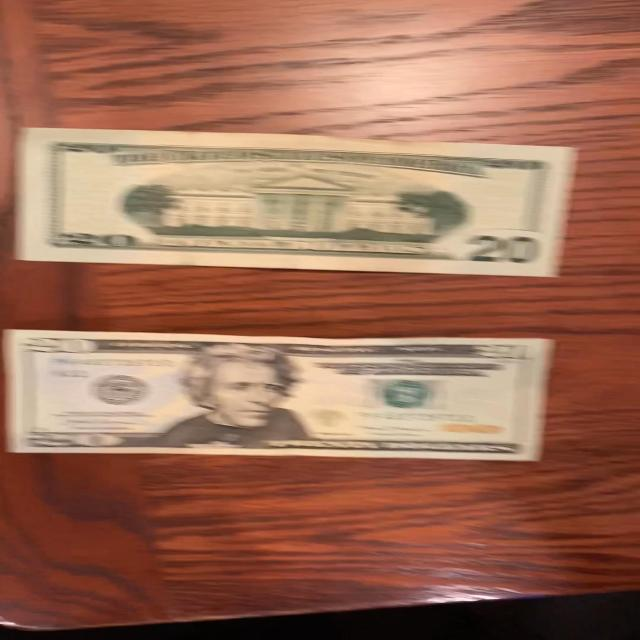20-Back: (8, 122, 578, 280)
20-Front: (0, 326, 555, 462)
